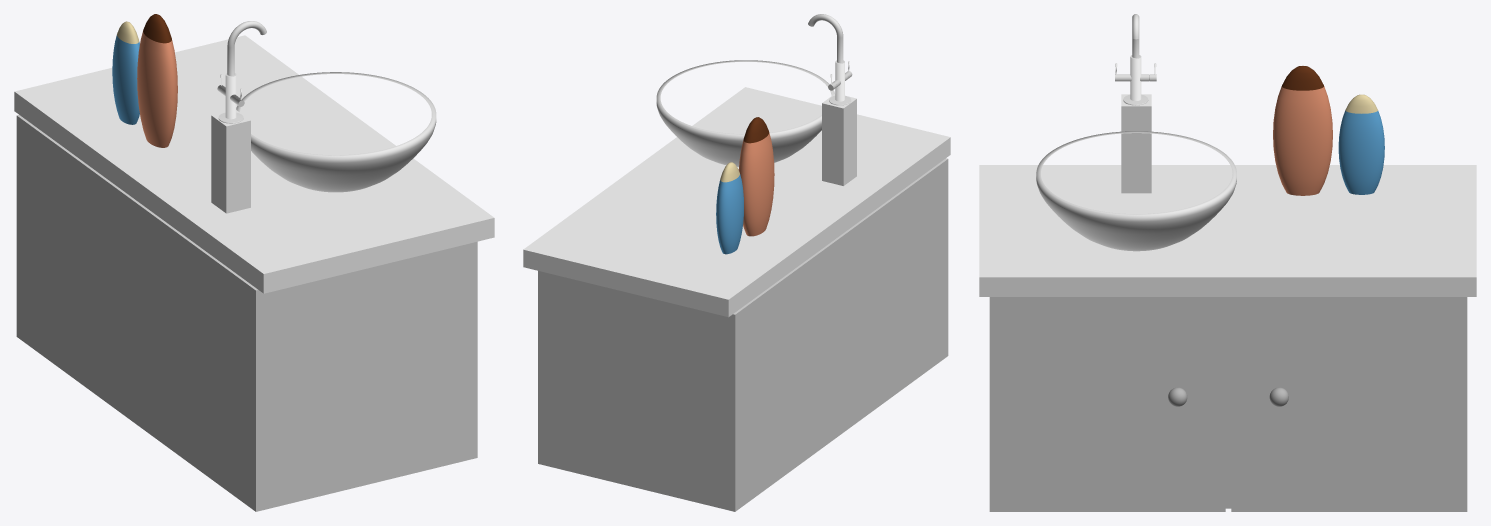
File: bathroomCabinet.glb
3 views of the same model, side by side, from view 1: azimuth 30°, elevation 25°; view 2: azimuth 150°, elevation 25°; view 3: azimuth 270°, elevation 25° (orthographic). The views are drawn at different scales.
Visible parts, largest first — view 1: Cube.086, Cube.087, Cylinder.079, pink soap, blue soap, Cylinder.093, Cylinder.092, soap top; view 2: Cube.086, Cube.087, Cylinder.079, pink soap, blue soap, Cylinder.093, Cylinder.092, soap top; view 3: Cube.086, Cube.087, Cylinder.079, pink soap, blue soap, soap top, Cylinder.093, Sphere.004.
Boxes of the visible parts, <box> form: Cube.086: <box>16,115,477,511</box>; Cube.087: <box>14,35,494,293</box>; Cylinder.079: <box>236,72,436,192</box>; pink soap: <box>137,30,177,147</box>; blue soap: <box>112,35,139,124</box>; Cylinder.093: <box>218,73,243,123</box>; Cylinder.092: <box>227,21,266,75</box>; soap top: <box>143,14,171,43</box>; Cube.086: <box>538,158,948,511</box>; Cube.087: <box>523,87,950,317</box>; Cylinder.079: <box>656,60,834,166</box>; pink soap: <box>738,133,774,236</box>; blue soap: <box>716,174,743,254</box>; Cylinder.093: <box>829,60,851,105</box>; Cylinder.092: <box>808,14,843,62</box>; soap top: <box>743,117,769,143</box>; Cube.086: <box>989,297,1467,511</box>; Cube.087: <box>979,94,1476,296</box>; Cylinder.079: <box>1036,131,1236,251</box>; pink soap: <box>1273,86,1332,195</box>; blue soap: <box>1338,110,1384,194</box>; soap top: <box>1282,66,1323,90</box>; Cylinder.093: <box>1123,55,1148,105</box>; Sphere.004: <box>1168,387,1288,406</box>.
Bounding box in the file's own units: 0.0327 × 0.0547 × 0.0587.
